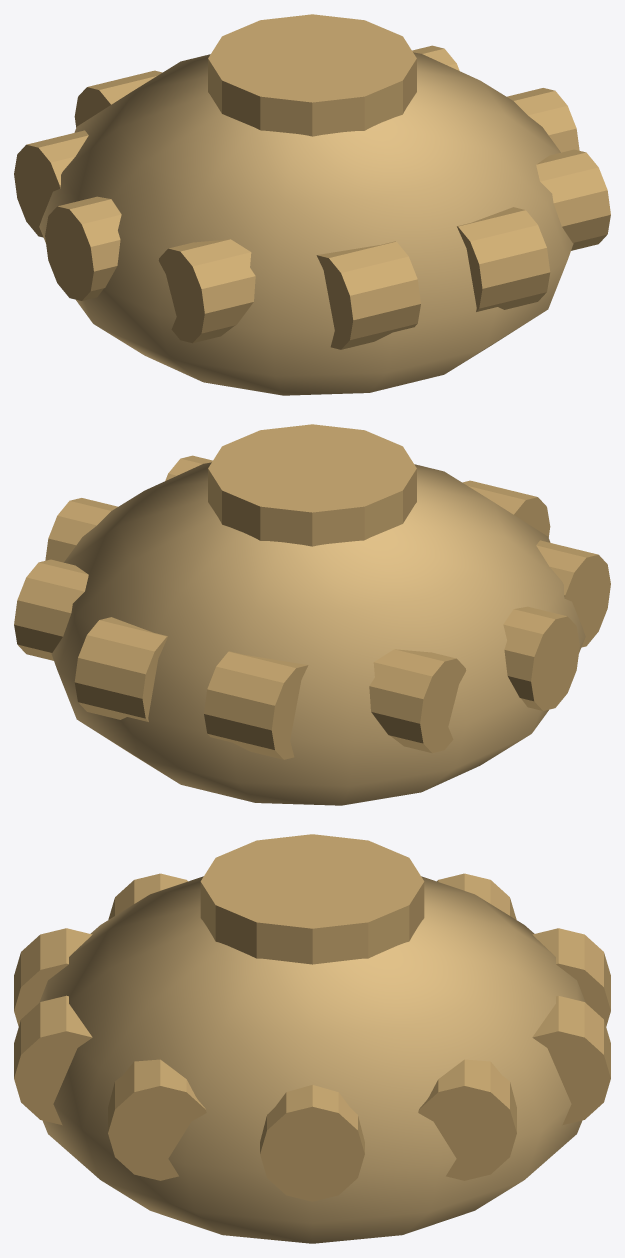
File: mooncake.glb
3 views of the same model, one above another, from view 1: azimuth 30°, elevation 25°; view 2: azimuth 150°, elevation 25°; view 3: azimuth 270°, elevation 25° (orthographic). The views are drawn at different scales.
Parts seen in each view (by area): view 1: mooncake; view 2: mooncake; view 3: mooncake.
Part boxes in pixels (x1,y1,x2,y2): mooncake: [14, 14, 610, 395]; mooncake: [14, 424, 610, 805]; mooncake: [14, 834, 610, 1243].
Size of the model in its own units: 0.086 by 0.0501 by 0.0854.
